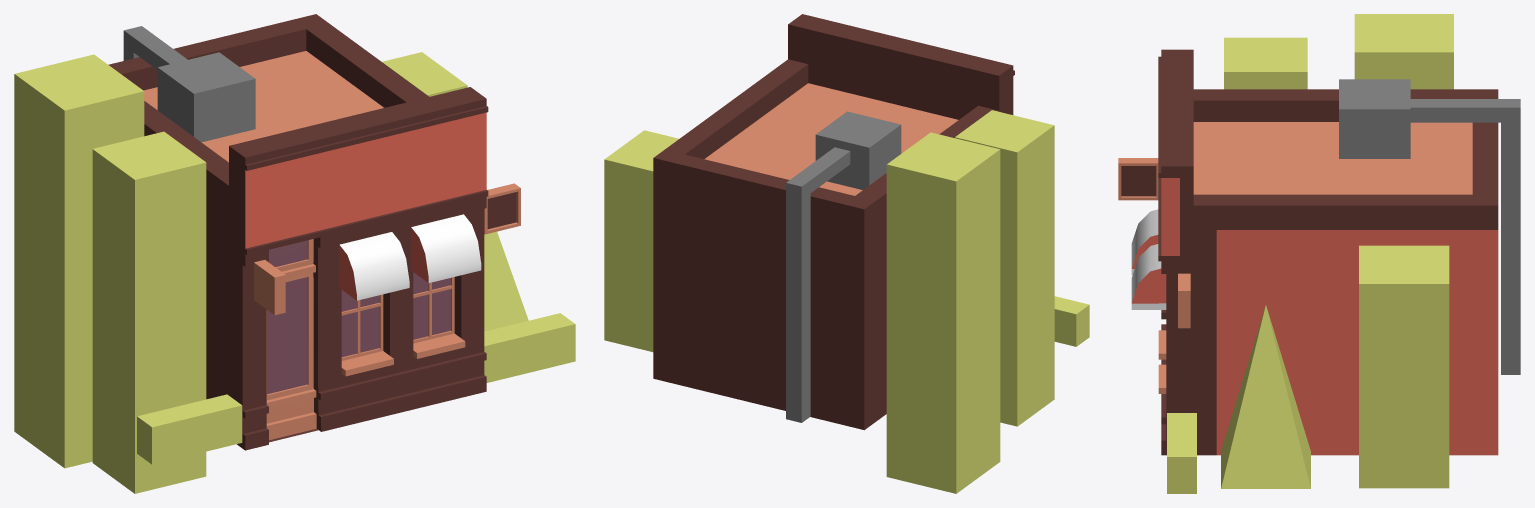
Rendered from Coffee House By AntonDot 3D Turbosquid.fbx.
The picture shows the model from 3 angles, left to right: view 1: azimuth 30°, elevation 25°; view 2: azimuth 150°, elevation 25°; view 3: azimuth 270°, elevation 25°; orthographic projection. The views are drawn at different scales.
Parts seen in each view (by area): view 1: Куб_24, Куб_29, Куб_28, Куб_27, Куб_26, Куб_33, Куб_32, Конус, Куб_25, Куб_30, Куб_31; view 2: Куб_24, Куб_28, Куб_29, Куб_25, Куб_27; view 3: Куб_24, Куб_25, Конус, Куб_28, Куб_29, Куб_26, Куб_32, Куб_31, Куб_33, Куб_30.
Part boxes in pixels (x1,y1,x2,y2): Куб_24: (108, 14, 488, 450); Куб_29: (92, 131, 206, 493); Куб_28: (14, 54, 144, 468); Куб_27: (137, 394, 242, 464); Куб_26: (484, 313, 575, 382); Куб_33: (339, 232, 409, 300); Куб_32: (411, 214, 481, 283); Конус: (484, 231, 528, 331); Куб_25: (382, 52, 467, 96); Куб_30: (484, 183, 520, 234); Куб_31: (254, 260, 285, 315); Куб_24: (653, 14, 1014, 430); Куб_28: (886, 132, 1000, 493); Куб_29: (955, 110, 1054, 426); Куб_25: (604, 130, 679, 351); Куб_27: (1054, 296, 1089, 346); Куб_24: (1158, 49, 1520, 455); Куб_25: (1359, 245, 1449, 488); Конус: (1221, 305, 1310, 488); Куб_28: (1354, 14, 1453, 89); Куб_29: (1224, 37, 1307, 89); Куб_26: (1167, 413, 1196, 493); Куб_32: (1131, 244, 1166, 309); Куб_31: (1118, 158, 1158, 200); Куб_33: (1131, 209, 1158, 275); Куб_30: (1178, 273, 1190, 328).
Size of the model in its own units: 682 by 557 by 568.
